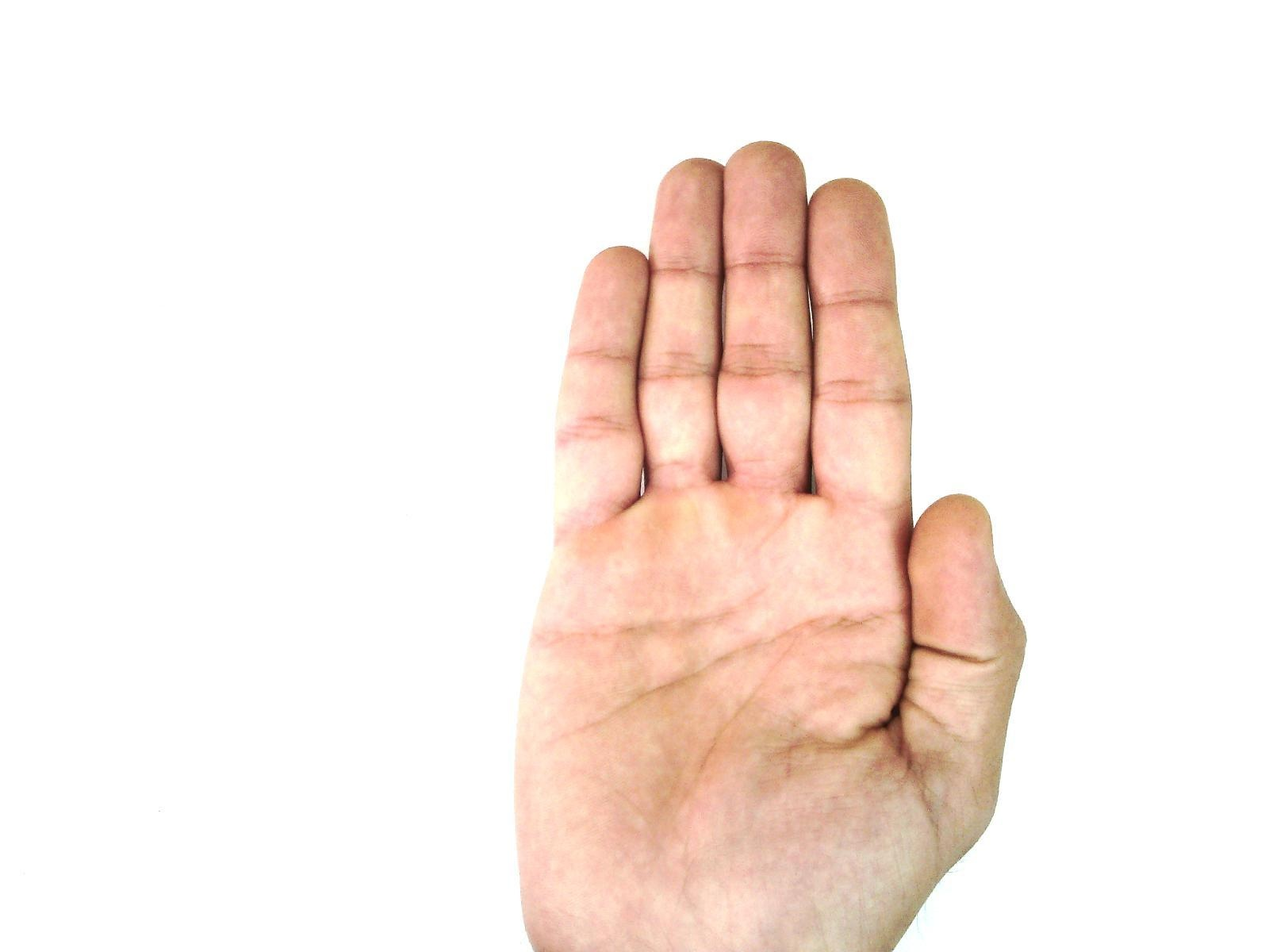open_palm: (510, 140, 1030, 951)
